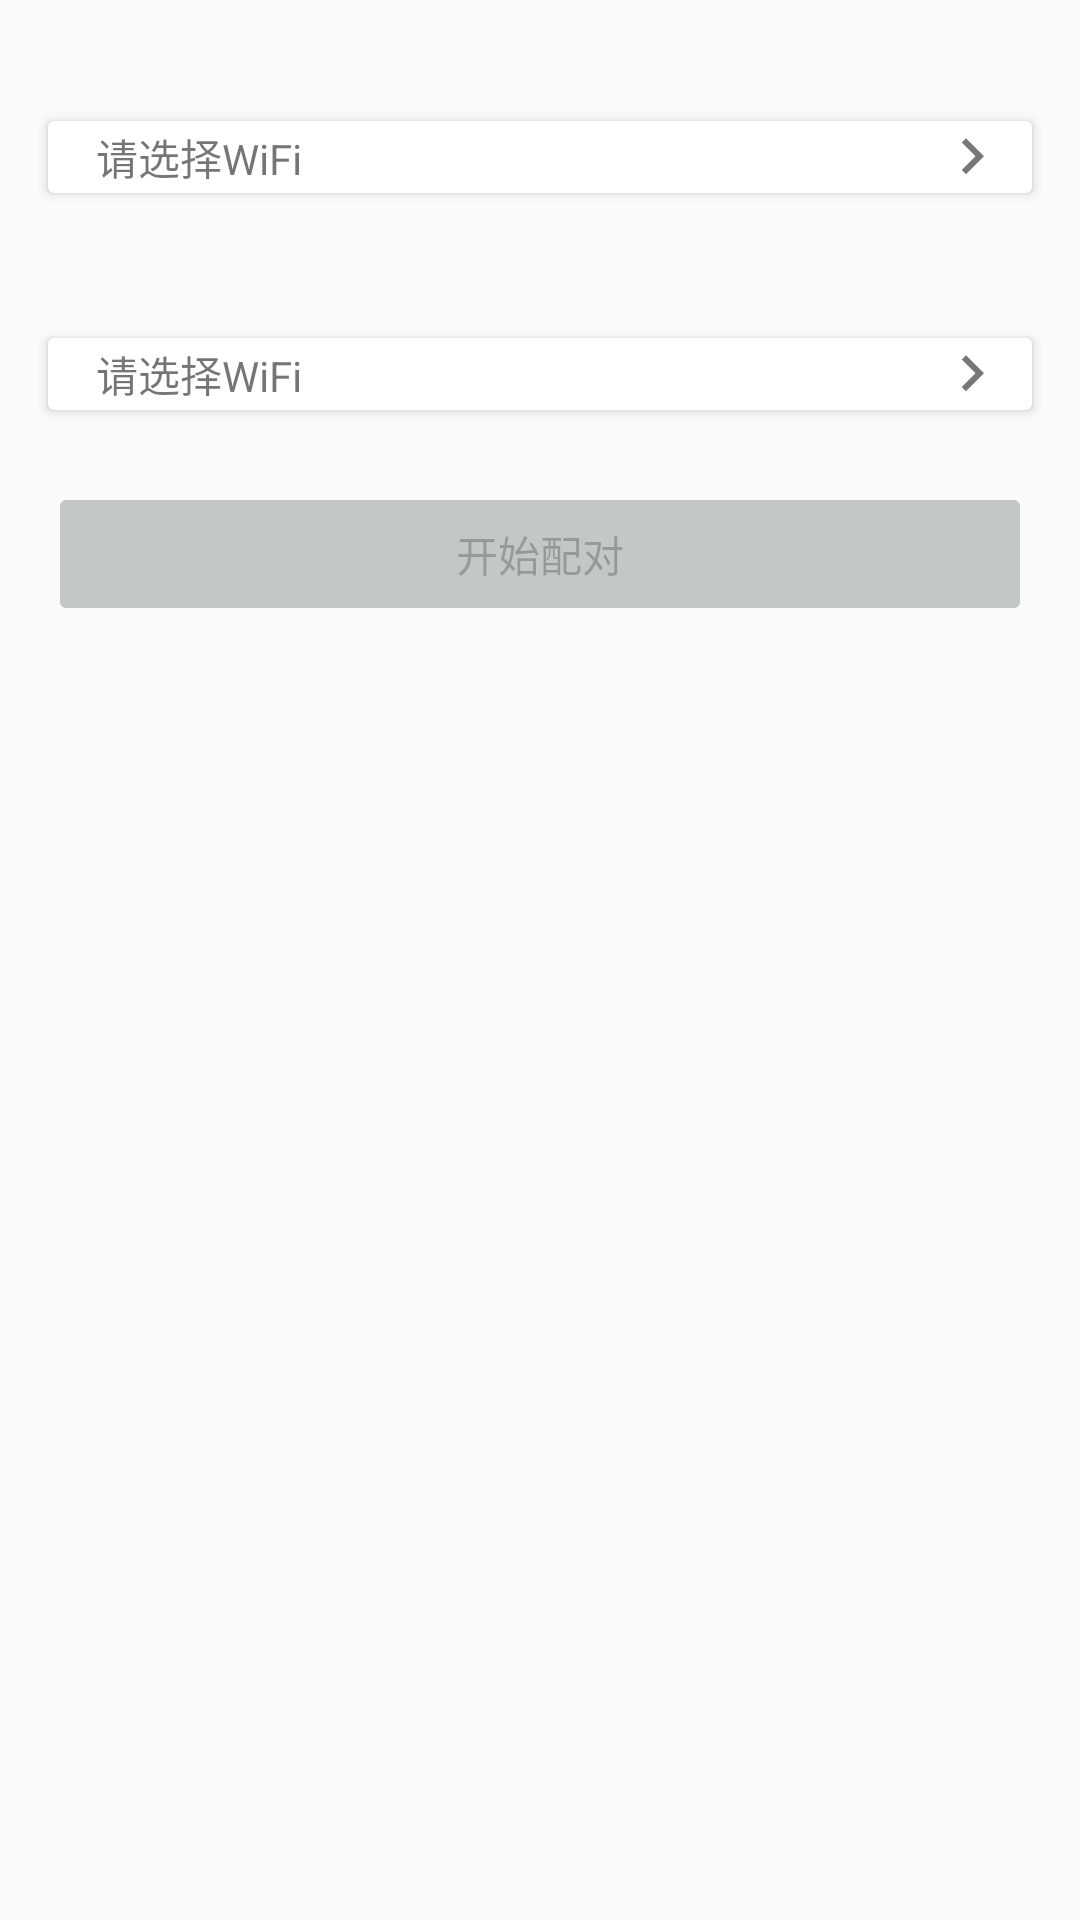

Named icons in this screenshot (1080w x 1920h) and their centers, (x=x, y=y):
keyboard arrow right: (x=973, y=156), (x=973, y=373)
